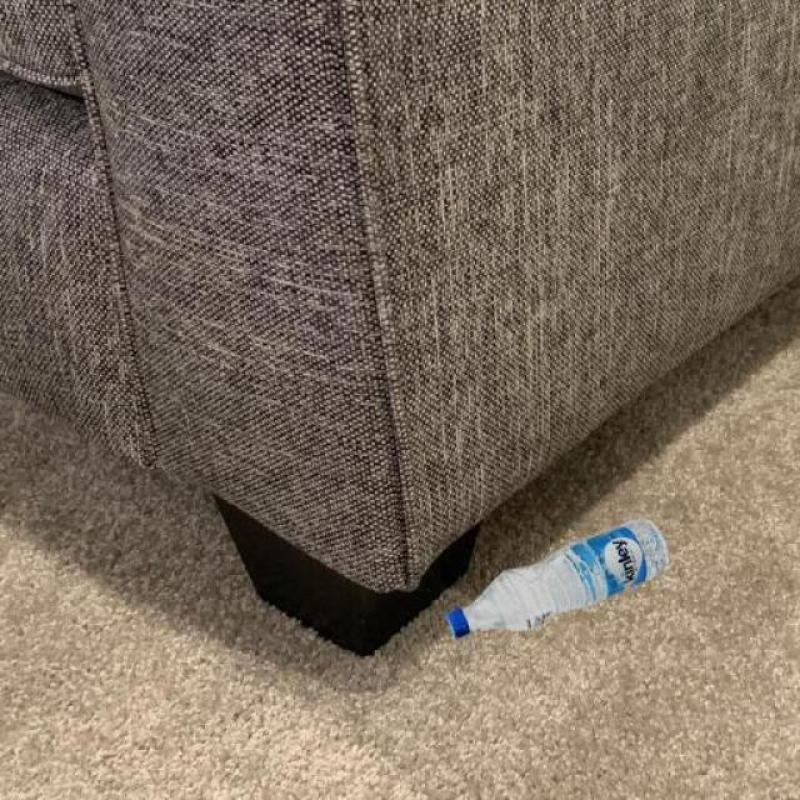botella: (443, 516, 668, 636)
